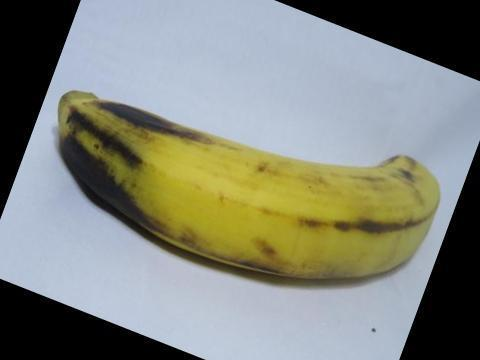ripe: (49, 82, 440, 322)
